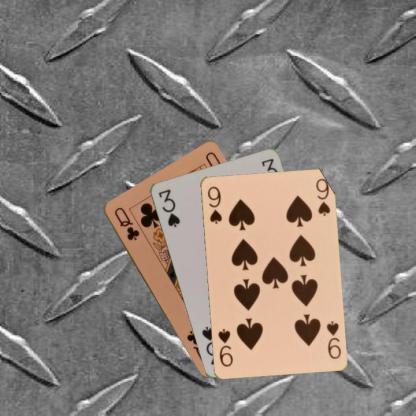3s: (155, 186, 181, 229)
9s: (323, 318, 342, 360), (205, 183, 223, 225)
Qc: (111, 205, 140, 242)
